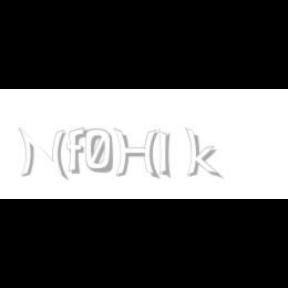0: (86, 128, 116, 174)
H: (113, 128, 159, 180)
I: (158, 128, 171, 180)
N: (18, 128, 66, 180)
f: (67, 128, 91, 174)
k: (185, 128, 223, 180)
